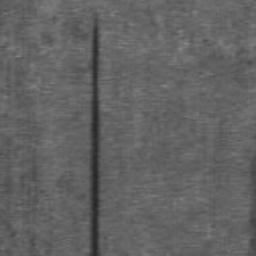Scratches: (89, 13, 101, 256)
